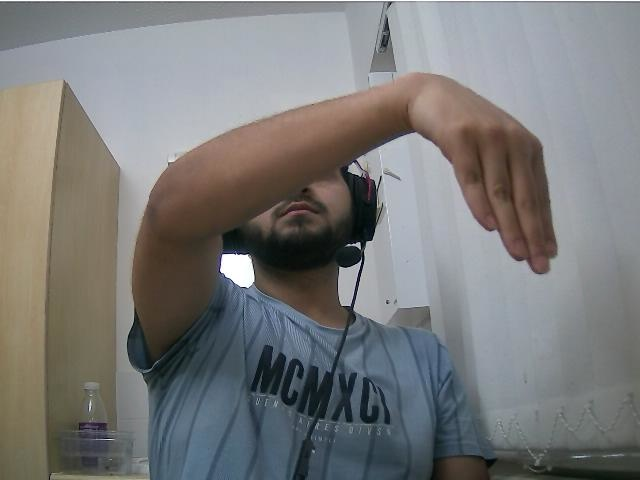down: (417, 73, 564, 274)
